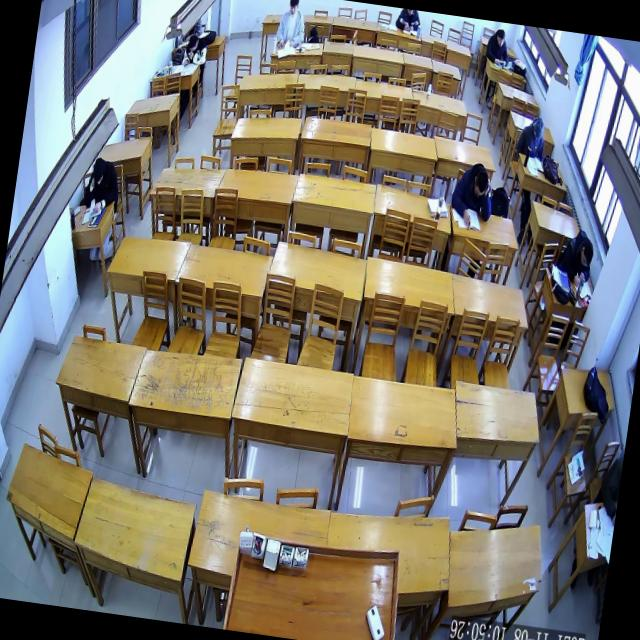bow: (274, 0, 310, 50)
down: (471, 168, 490, 202), (89, 155, 108, 187), (577, 239, 596, 271), (531, 115, 547, 142), (186, 34, 200, 54), (494, 28, 508, 48), (287, 0, 301, 17)
sit: (447, 158, 499, 232), (79, 154, 123, 218), (555, 225, 598, 289), (514, 112, 550, 160), (483, 27, 513, 70), (180, 31, 210, 70)
